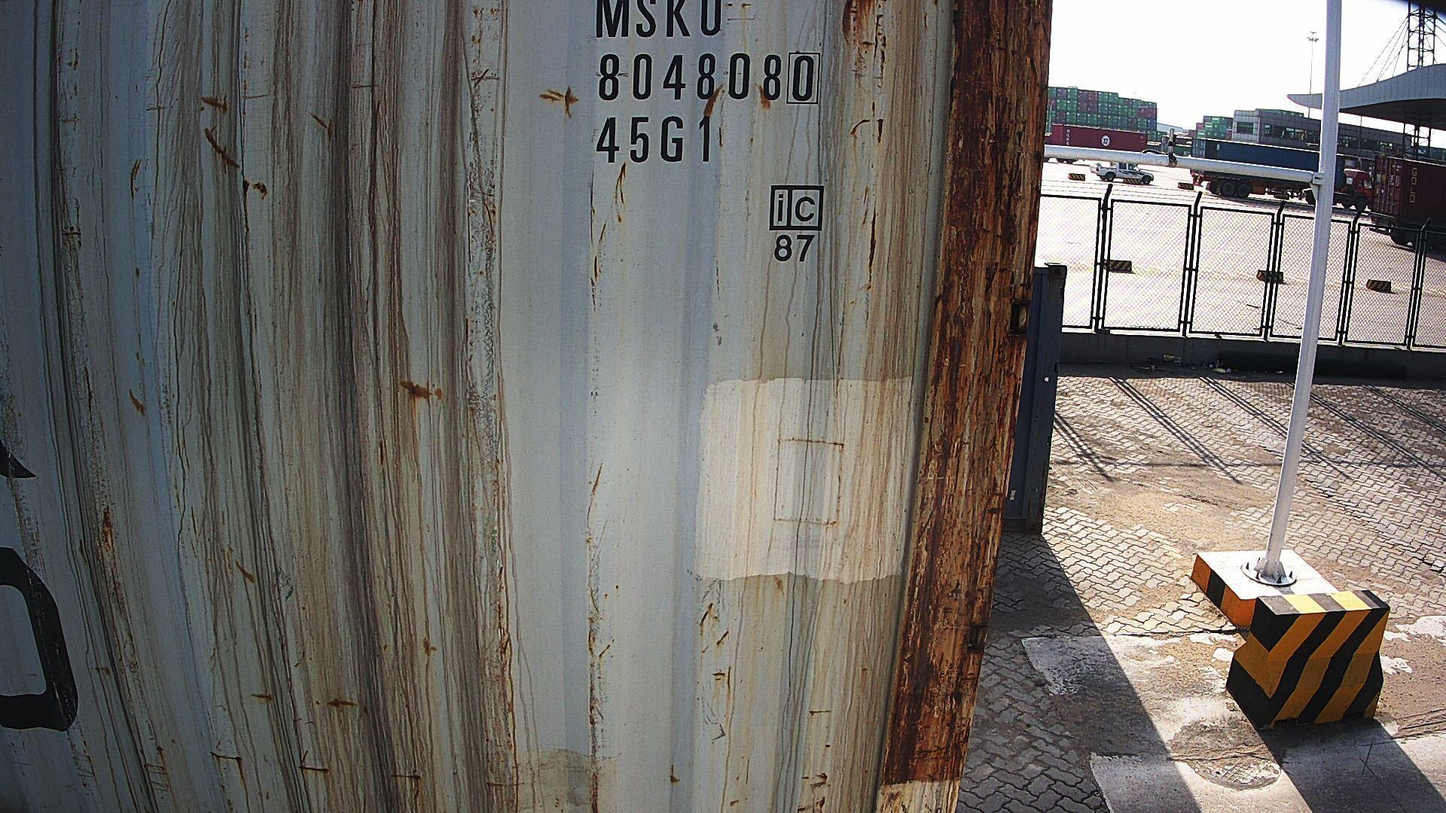container-numbers: (590, 49, 828, 109), (591, 114, 716, 169), (589, 0, 727, 43)
